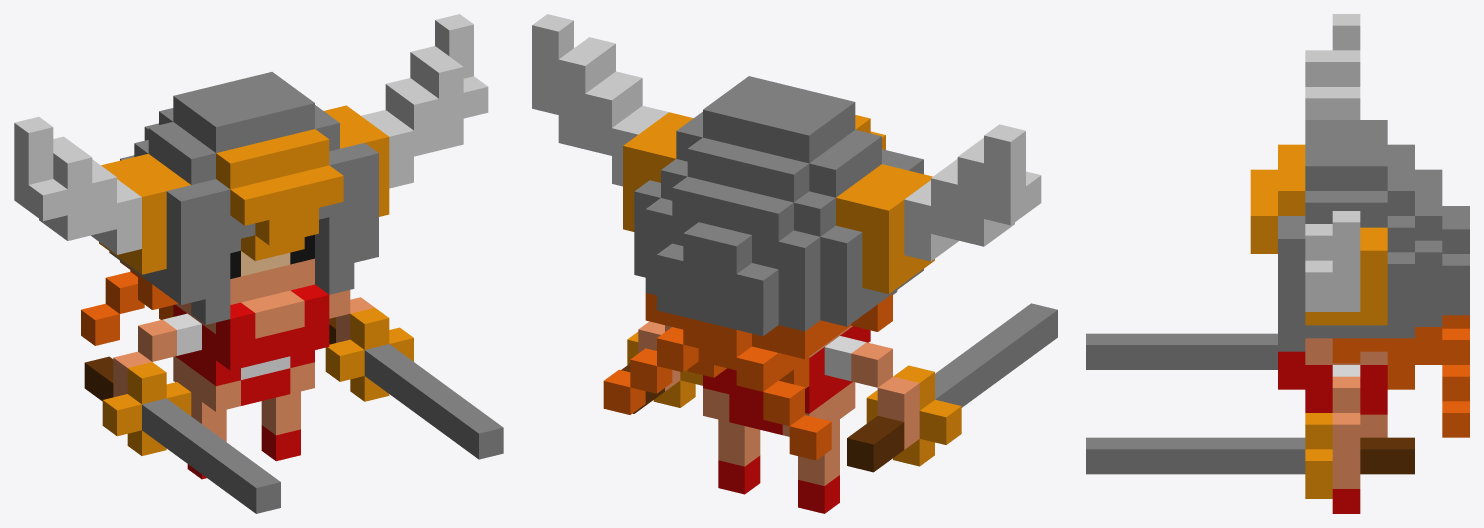
The model's file is barbarian.obj.
The picture shows the model from 3 angles, left to right: view 1: azimuth 30°, elevation 25°; view 2: azimuth 150°, elevation 25°; view 3: azimuth 270°, elevation 25°; orthographic projection. The views are drawn at different scales.
Size of the model in its own units: 18 by 15 by 14.
